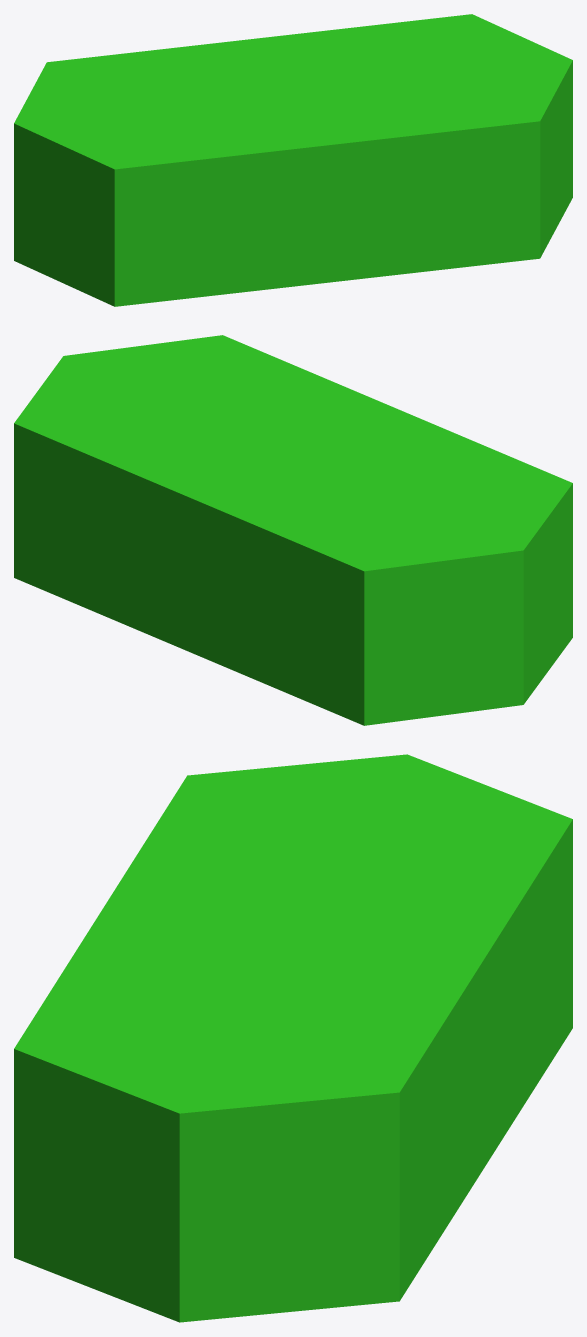
The model's file is NormalContent.fbx.
3 renders of one model, top to bottom at view 1: azimuth 30°, elevation 25°; view 2: azimuth 150°, elevation 25°; view 3: azimuth 270°, elevation 25°, orthographic. The views are drawn at different scales.
Visible parts, largest first — view 1: Model; view 2: Model; view 3: Model.
Part boxes in pixels (x1,y1,x2,y2): Model: (14,14,572,306); Model: (14,335,572,725); Model: (14,754,572,1322).
Size of what is drawn, in the model's own units: 1.14 by 0.308 by 0.7468.
